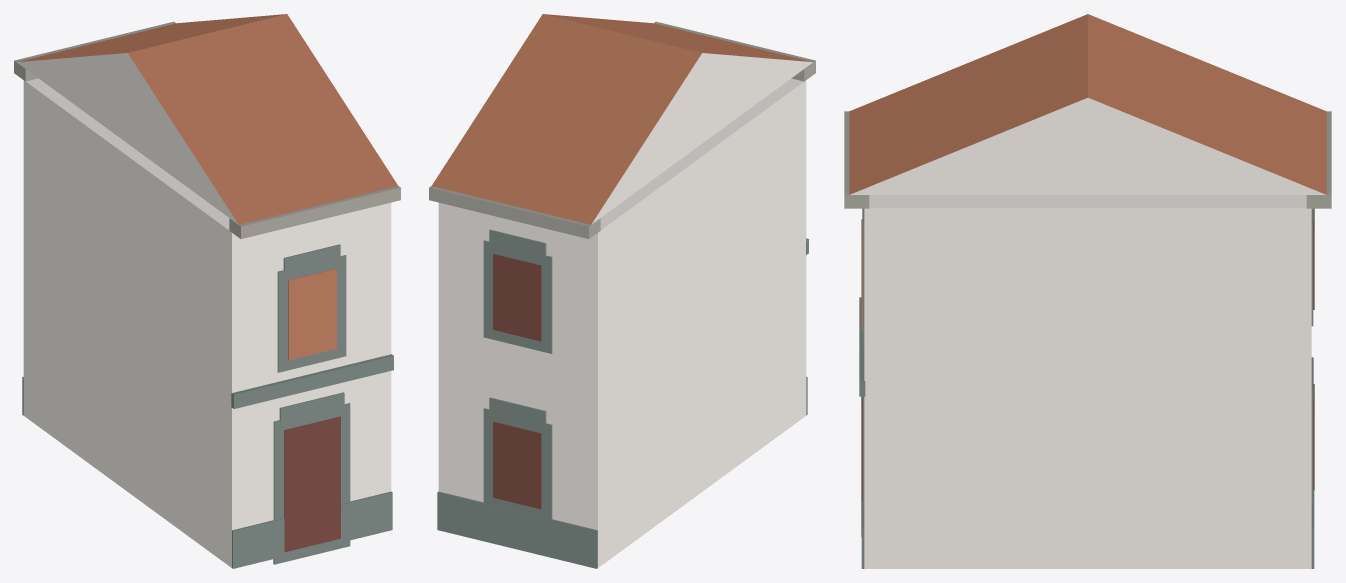
The model's file is SM_KitCuerpo_v1_LOD1.fbx.
3 views of the same model, side by side, from view 1: azimuth 30°, elevation 25°; view 2: azimuth 150°, elevation 25°; view 3: azimuth 270°, elevation 25° (orthographic). The views are drawn at different scales.
Parts seen in each view (by area): view 1: SM_bloques.kit_cuerpo_v1_LOD1; view 2: SM_bloques.kit_cuerpo_v1_LOD1; view 3: SM_bloques.kit_cuerpo_v1_LOD1.
Boxes of the visible parts, bbox=[...] form: SM_bloques.kit_cuerpo_v1_LOD1: bbox=[14, 14, 400, 568]; SM_bloques.kit_cuerpo_v1_LOD1: bbox=[429, 14, 815, 568]; SM_bloques.kit_cuerpo_v1_LOD1: bbox=[844, 14, 1331, 568].
Size of the model in its own units: 3.99 by 10.61 by 9.8.
